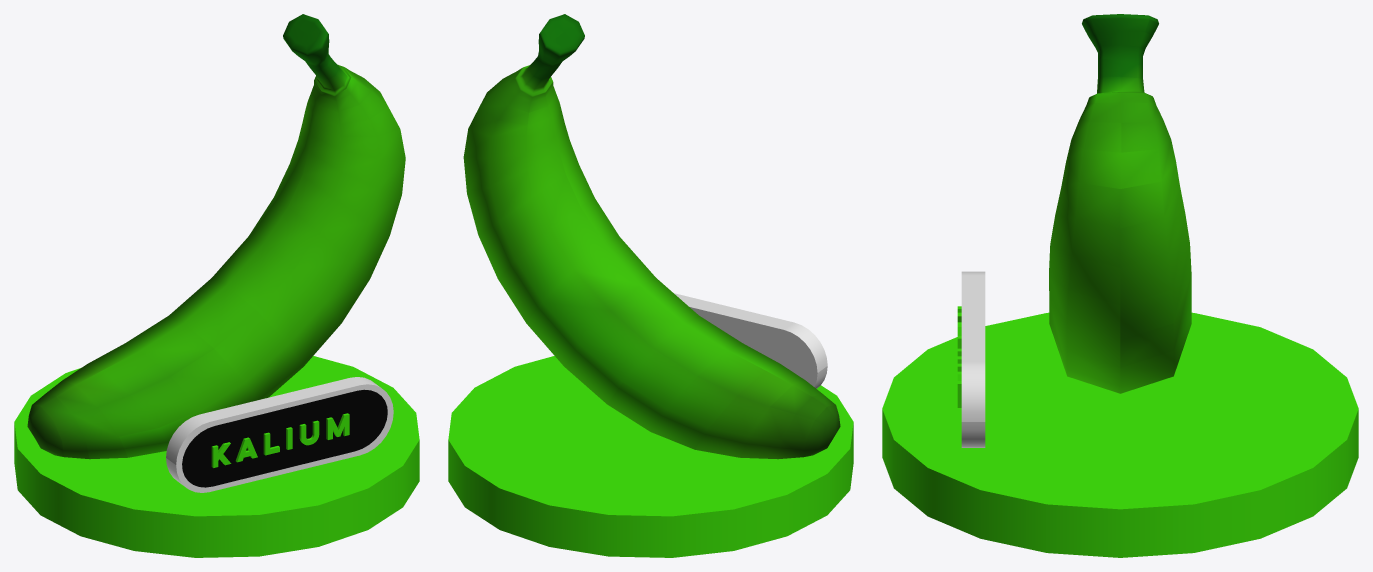
The model's file is 3d_banana.fbx.
3 renders of one model, left to right at view 1: azimuth 30°, elevation 25°; view 2: azimuth 150°, elevation 25°; view 3: azimuth 270°, elevation 25°, orthographic. The views are drawn at different scales.
Parts seen in each view (by area): view 1: banana_geo, bananabase_geo, plaquecolor_geo, kalium_textgeo; view 2: banana_geo, bananabase_geo, plaquecolor_geo; view 3: bananabase_geo, banana_geo, plaquecolor_geo.
Boxes of the visible parts, x1,y1,x2,y2 form: banana_geo: (27, 14, 405, 459); bananabase_geo: (14, 356, 419, 557); plaquecolor_geo: (166, 377, 393, 492); kalium_textgeo: (211, 413, 349, 467); banana_geo: (463, 14, 840, 459); bananabase_geo: (448, 356, 853, 557); plaquecolor_geo: (674, 293, 827, 388); bananabase_geo: (882, 312, 1358, 557); banana_geo: (1049, 14, 1191, 393); plaquecolor_geo: (961, 271, 985, 447).
Size of the model in its own units: 18.7 by 21.01 by 18.1.
